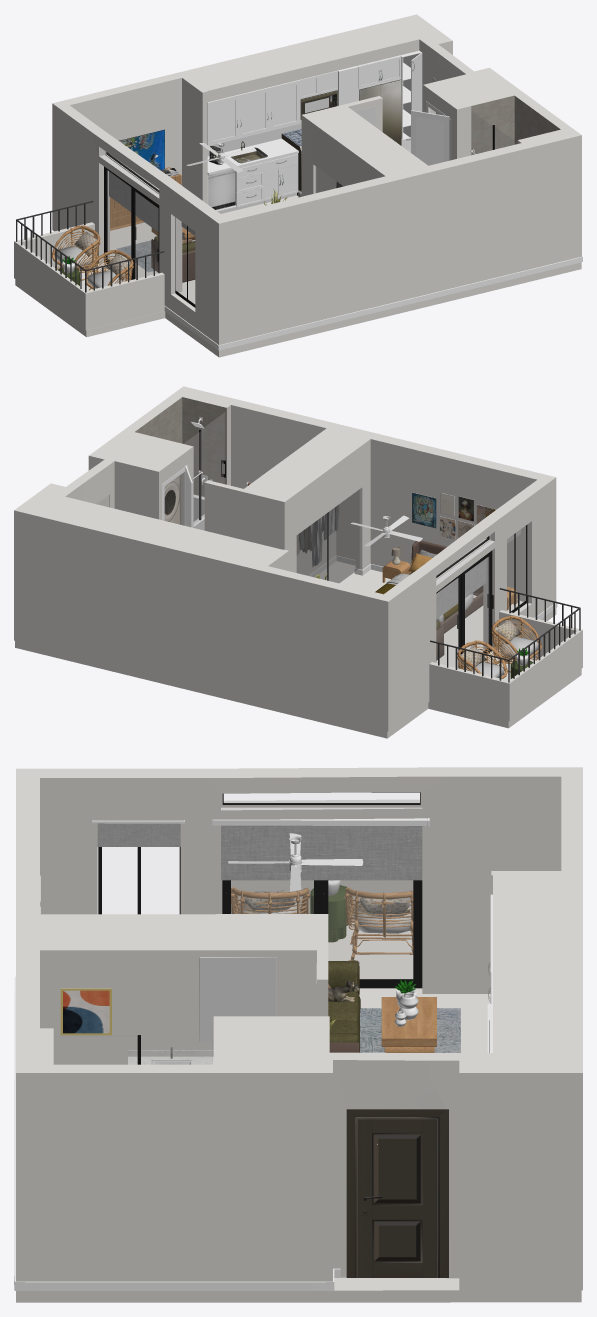
File: PlanwithDog.glb
3 views of the same model, one above another, from view 1: azimuth 30°, elevation 25°; view 2: azimuth 150°, elevation 25°; view 3: azimuth 270°, elevation 25° (orthographic). The views are drawn at different scales.
Visible parts, largest first — view 1: Cube.069, Cube.050, Cube.106, Cube.105, Cube.078, Plane.042, Cube.081, Plane.001, Cube.080, Cube.052, fridge - door - B.004, Cube.115 (+20 smaller); view 2: Cube.069, Cube.050, Cube.106, Cube.105, Cube.110, Plane.001, Cube.081, Espera Pro Walk-in.001, Cube.052, Plane.042, Plane.040, BUSKBO_Armchair_010.004 (+7 smaller); view 3: Cube.069, Plane.044, Cube.106, Plane.040, Plane.042, Cube.081, Cube.102, Espera Pro Walk-in.001, Cube.078, Plane.001, Cube.058, BUSKBO_Armchair_010.003 (+13 smaller).
Boxes of the visible parts, x1,y1,x2,y2 form: Cube.069: (52, 14, 581, 344); Cube.050: (14, 222, 164, 330); Cube.106: (15, 195, 581, 357); Cube.105: (471, 95, 560, 155); Cube.078: (164, 256, 582, 350); Plane.042: (104, 166, 136, 279); Cube.081: (312, 109, 418, 174); Plane.001: (132, 186, 159, 279); Cube.080: (411, 110, 449, 165); Cube.052: (16, 200, 164, 292); fridge - door - B.004: (359, 79, 401, 145); Cube.115: (207, 95, 238, 145); Cube.069: (14, 386, 556, 731); Cube.050: (429, 610, 582, 721); Cube.106: (15, 561, 581, 738); Cube.105: (135, 397, 226, 496); Cube.110: (296, 489, 359, 583); Plane.001: (461, 550, 493, 668); Cube.081: (254, 430, 363, 497); Espera Pro Walk-in.001: (184, 413, 225, 524); Cube.052: (430, 588, 580, 682); Plane.042: (436, 574, 460, 668); Plane.040: (436, 558, 486, 618); BUSKBO_Armchair_010.004: (491, 615, 541, 672); Cube.069: (16, 767, 582, 1290); Plane.044: (346, 1109, 448, 1277); Cube.106: (16, 922, 581, 1302); Plane.040: (212, 818, 429, 880); Plane.042: (319, 880, 422, 988); Cube.081: (40, 919, 316, 942); Cube.102: (199, 957, 316, 1041); Espera Pro Walk-in.001: (55, 1035, 212, 1064); Cube.078: (14, 976, 340, 1290); Plane.001: (222, 880, 319, 913); Cube.058: (381, 997, 436, 1052); BUSKBO_Armchair_010.003: (344, 887, 413, 960).
Bounding box in the file's own units: 9.62 × 2.77 × 6.22.
Materials: 91 (42 with a texture image).
